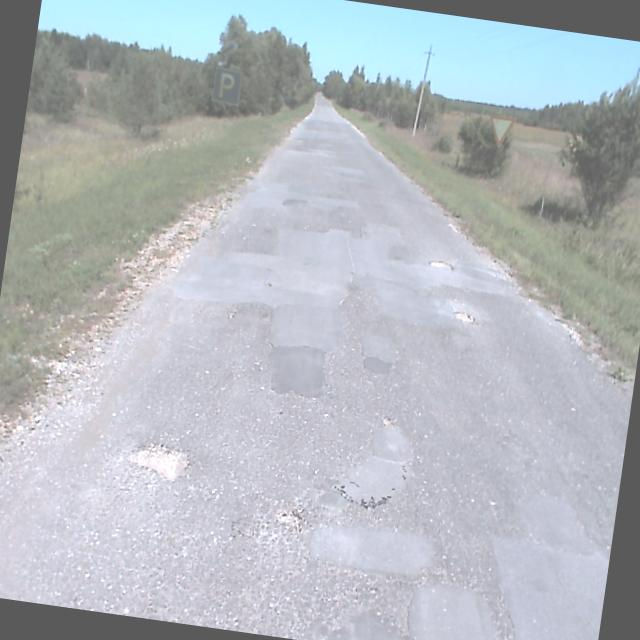road: (0, 96, 633, 640)
